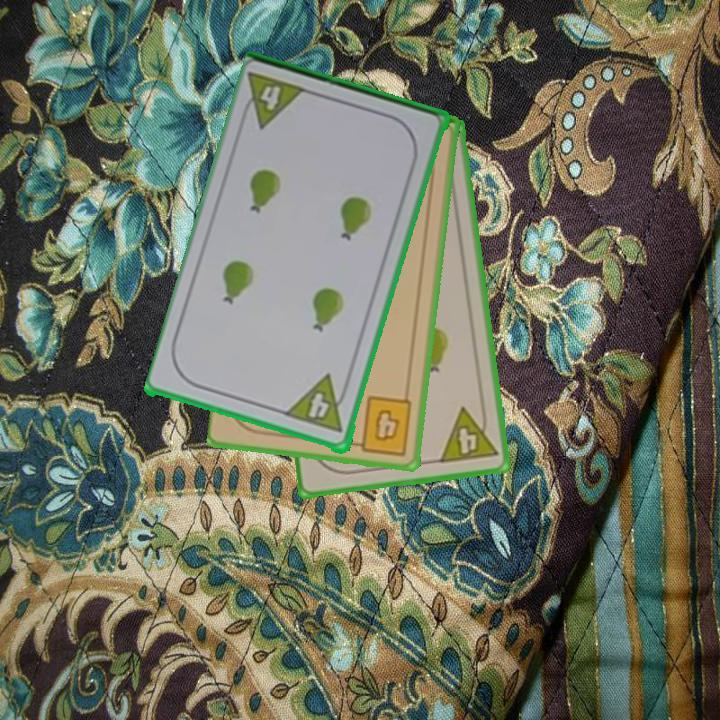4b: (348, 392, 415, 458)
4p: (236, 68, 312, 133), (283, 372, 353, 436), (435, 401, 500, 466)
